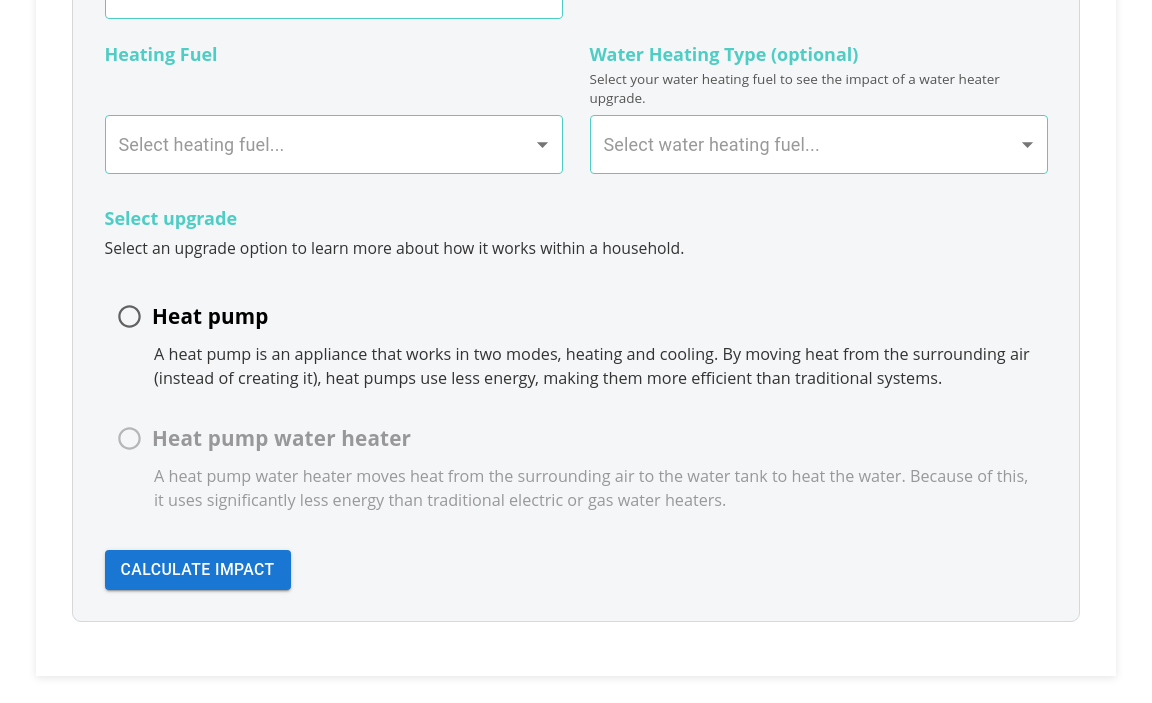
Test: CalculateImpactPage › validation › shows error for household type when submitting empty form
The width and height of the screenshot is (1152, 703).
(page scrolled)
Click the button "Calculate impact" at (198, 570), box [104,550,291,590]
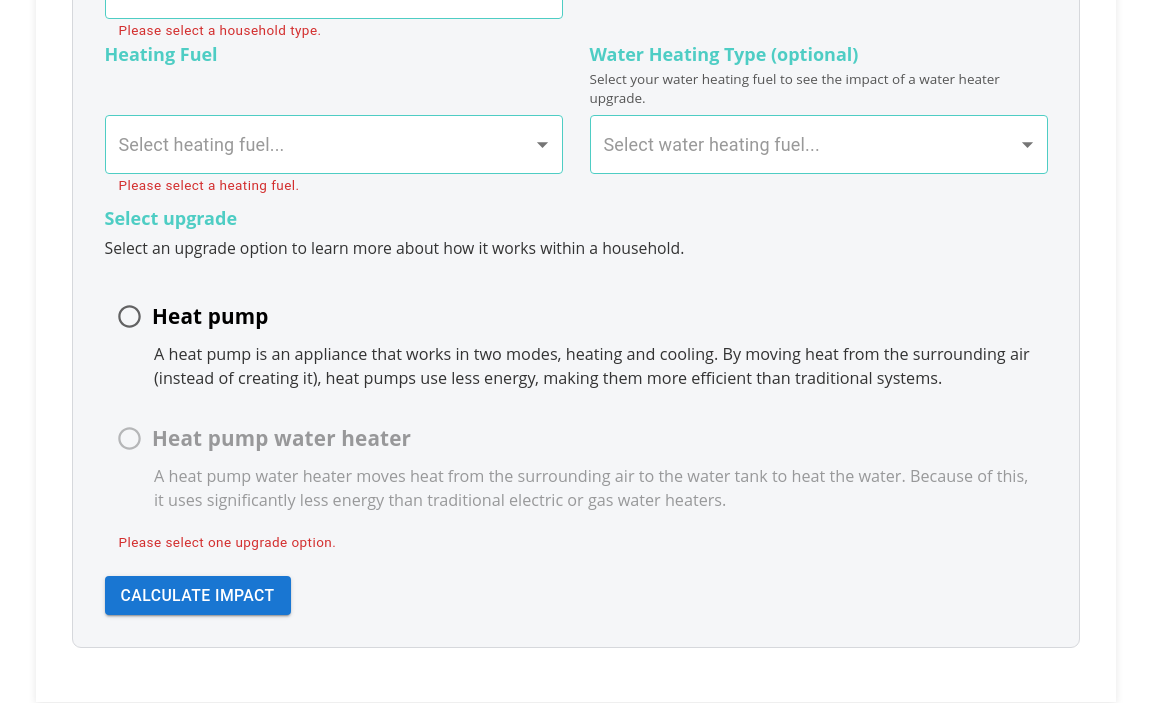
Expected: the text "Please select a household type." is shown, [118,20,322,42]
